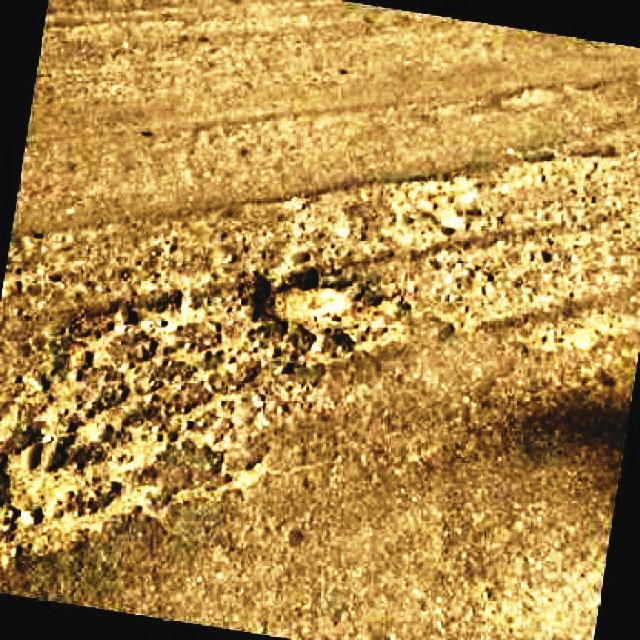pothole: (0, 272, 357, 557), (288, 154, 589, 251)
